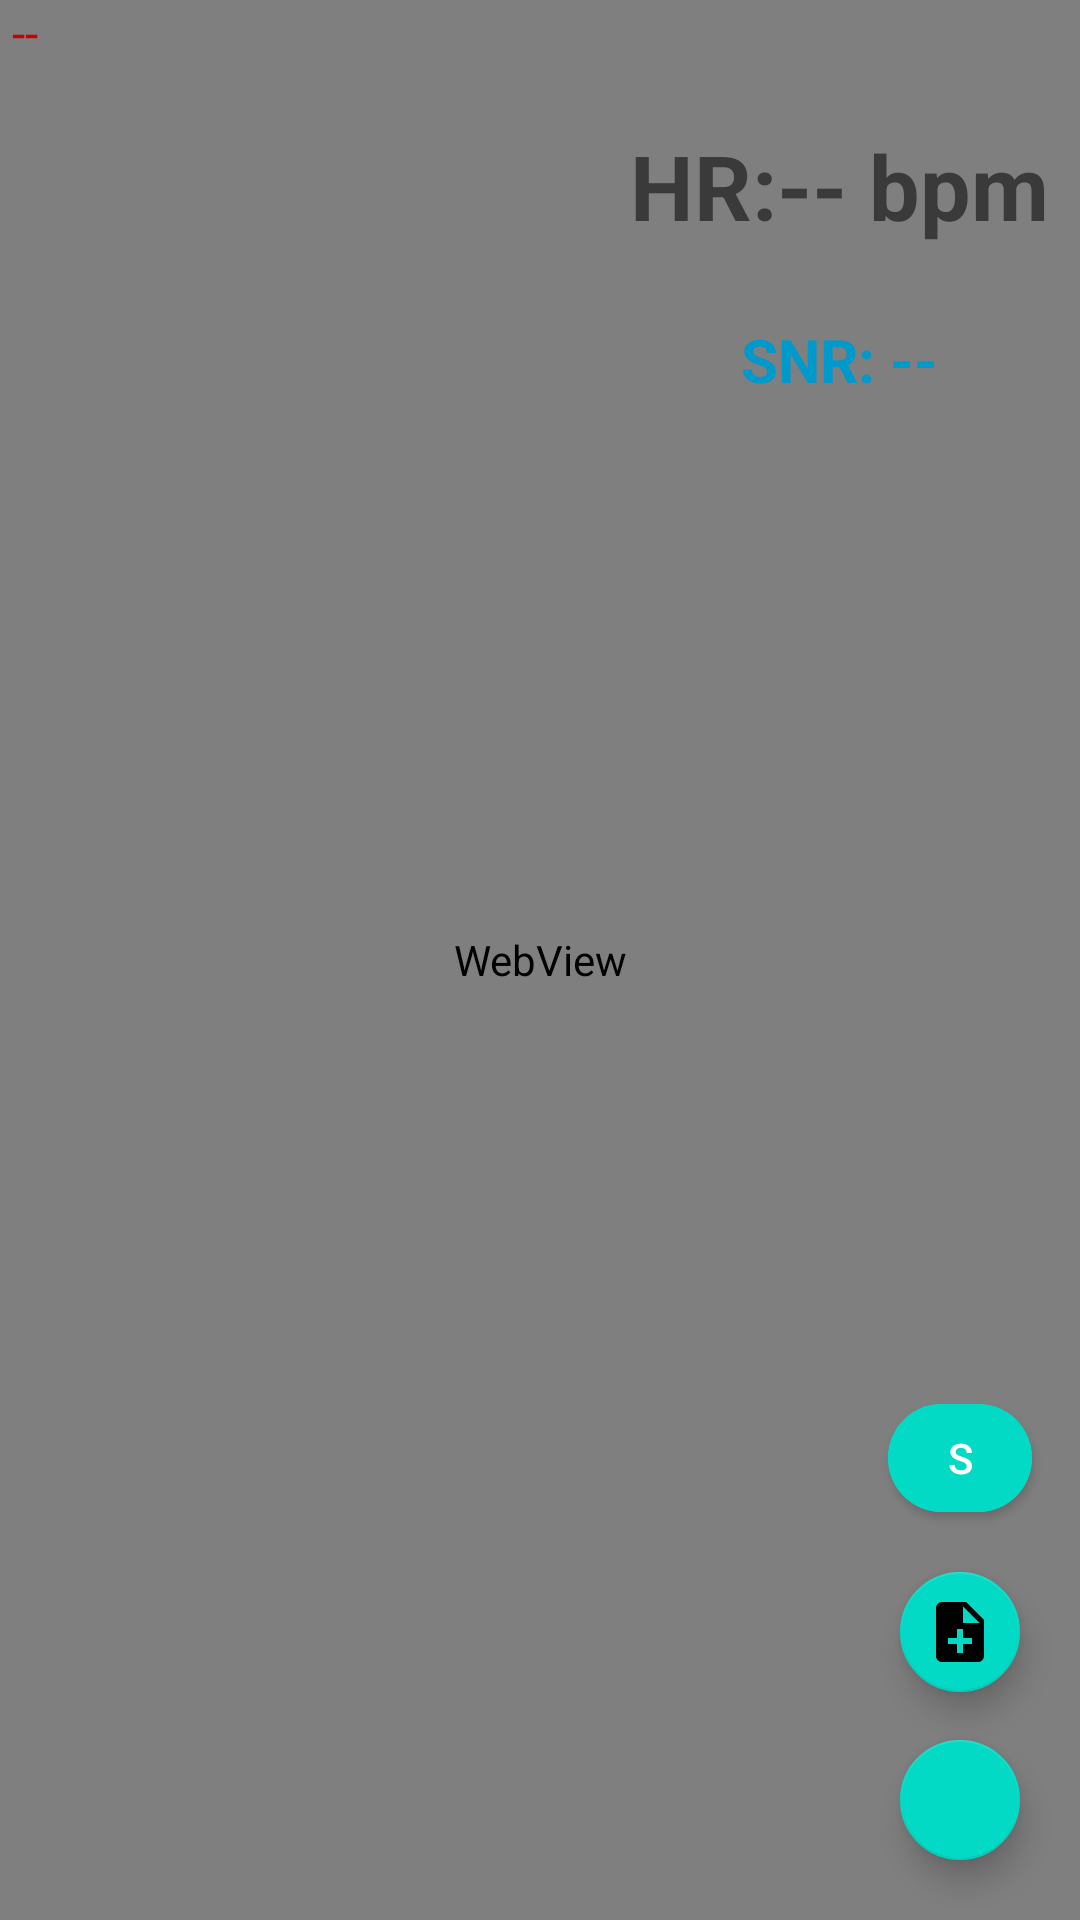

Icon click points for this 1080px x 1920px phone screenshot, format point (x, y):
add note: point (960, 1632)
